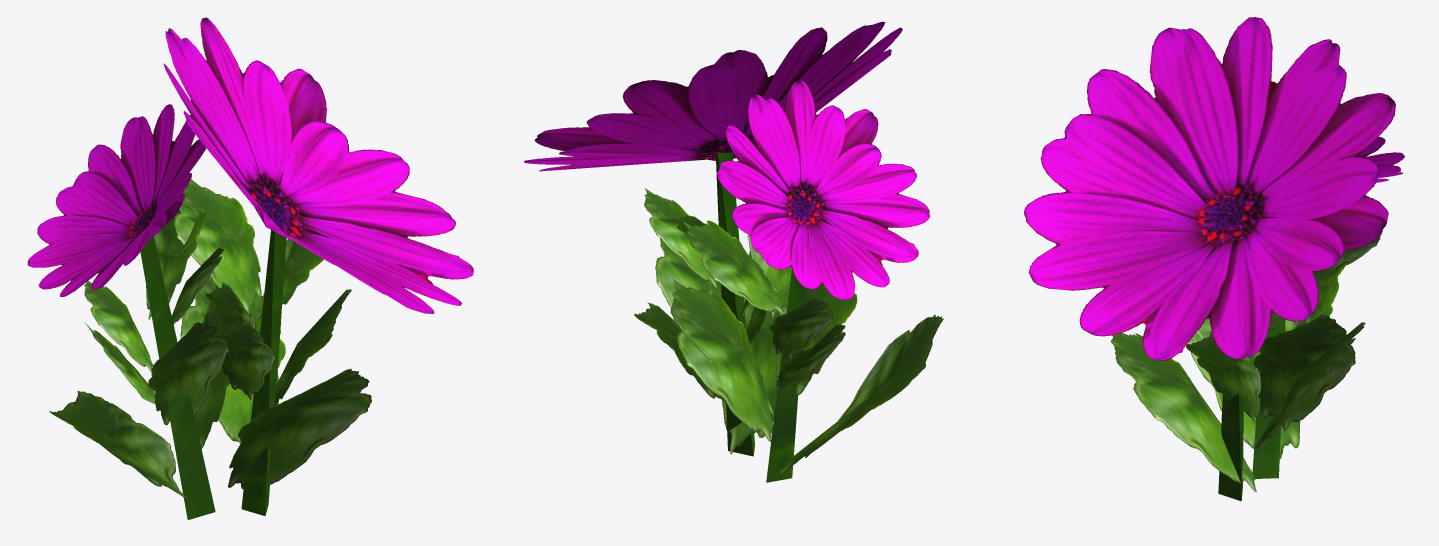
The model's file is flower-top.glb.
3 views of the same model, side by side, from view 1: azimuth 30°, elevation 25°; view 2: azimuth 150°, elevation 25°; view 3: azimuth 270°, elevation 25° (orthographic). The views are drawn at different scales.
Parts seen in each view (by area): view 1: Cylinder_0; view 2: Cylinder_0; view 3: Cylinder_0.
Boxes of the visible parts, x1,y1,x2,y2 form: Cylinder_0: (27,17,473,519); Cylinder_0: (524,21,943,482); Cylinder_0: (1024,17,1404,501).
Size of the model in its own units: 0.2924 by 0.3108 by 0.248.
Materials: 3 (3 with a texture image).
